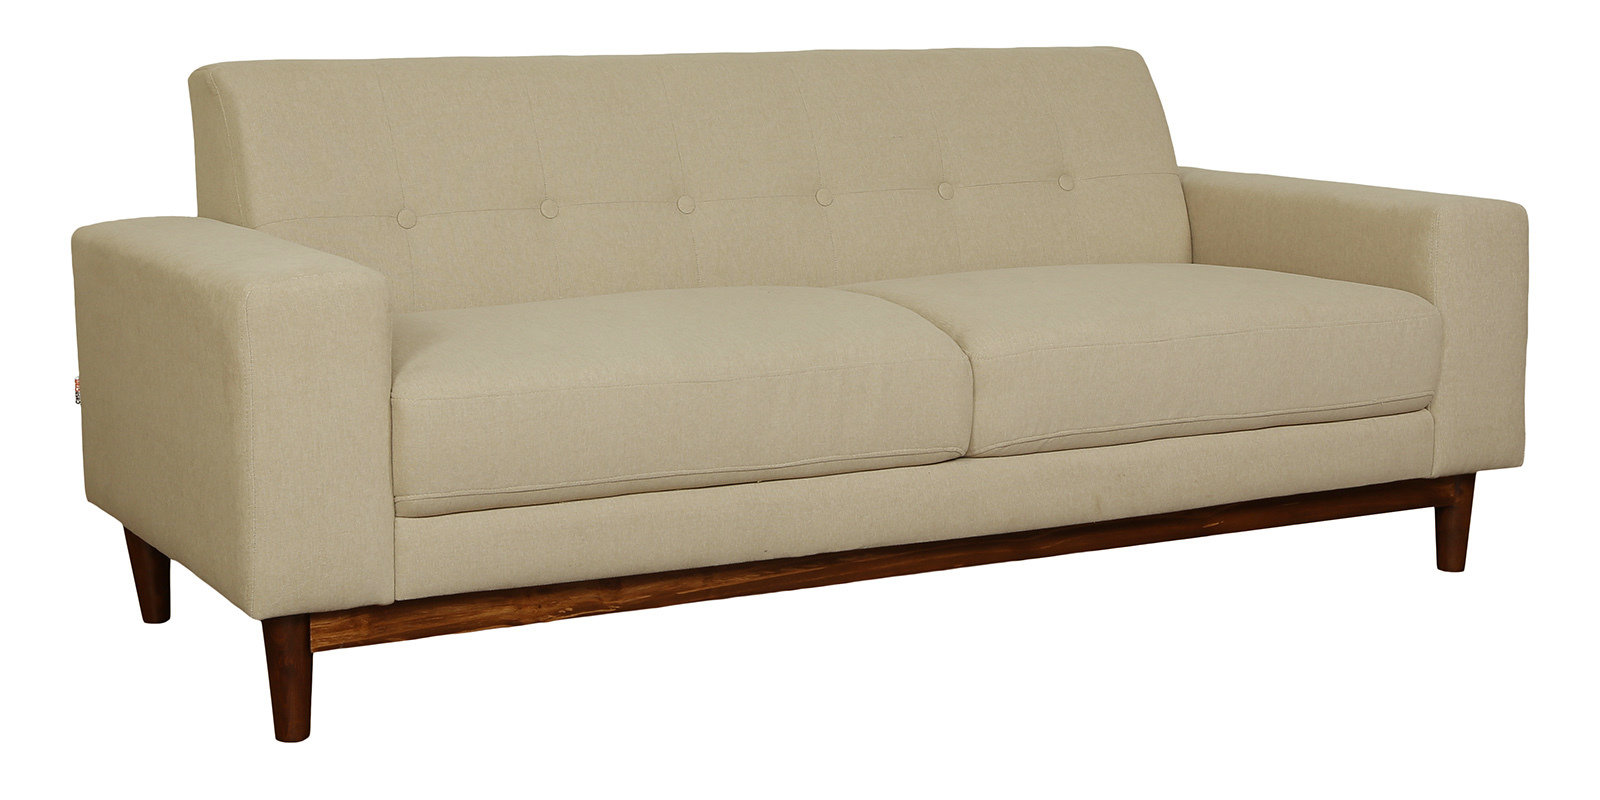Cordoba Three Seater Sofa in Beige Colour by CasaCraft: (60, 46, 1536, 684)
